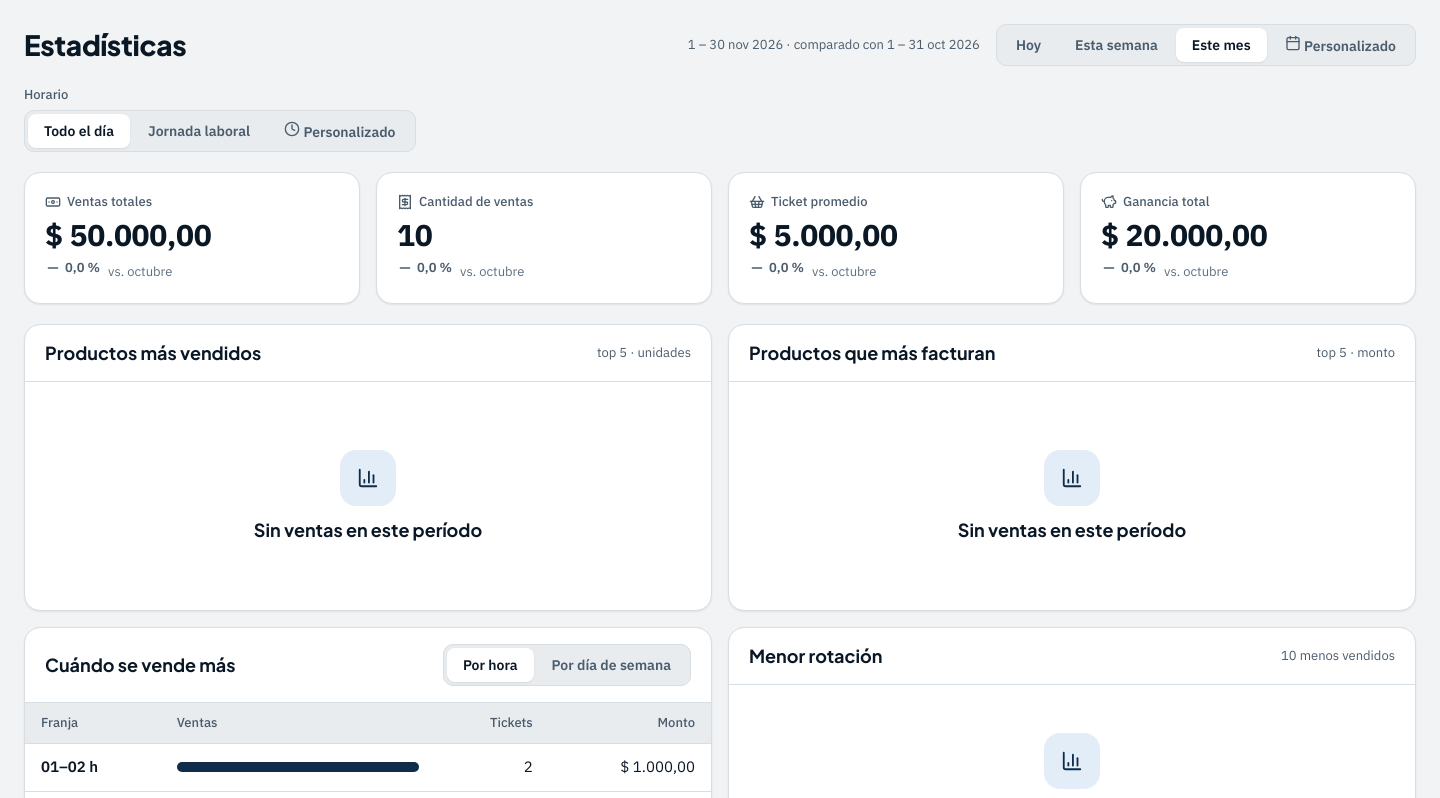
Scenario: Stats — filtro horario: día comercial en curso › 13. "Mes pasado" el 1/11 a la 01:00 con jornada
The width and height of the screenshot is (1440, 798).
Click the tab "Jornada laboral".
click(199, 131)  # box [132,114,266,148]
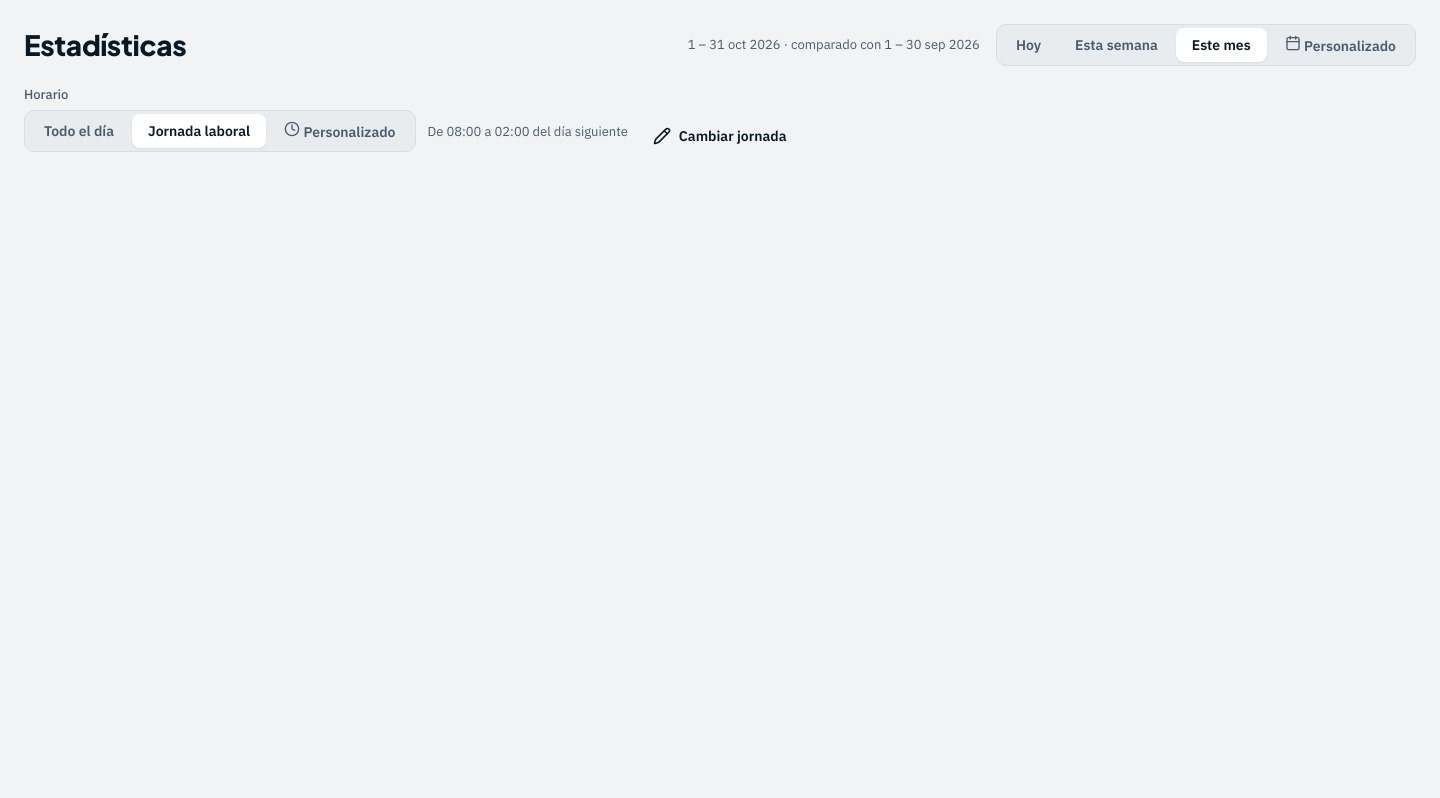
Click the tab "Personalizado" in the row of "1 – 30 sep 2026".
click(1340, 45)  # box [1269,28,1412,62]
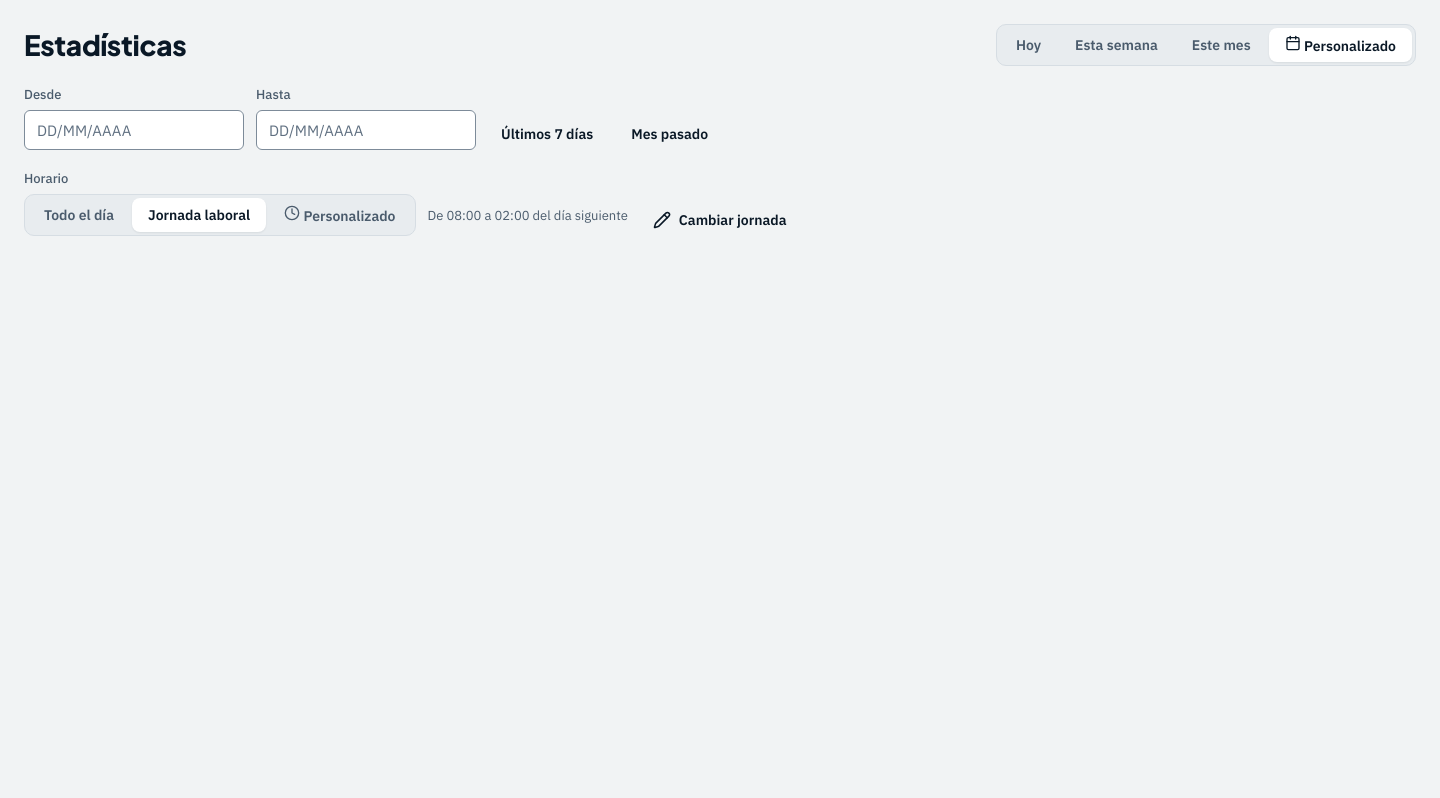
Click the button "Mes pasado".
click(670, 134)  # box [618,118,721,150]
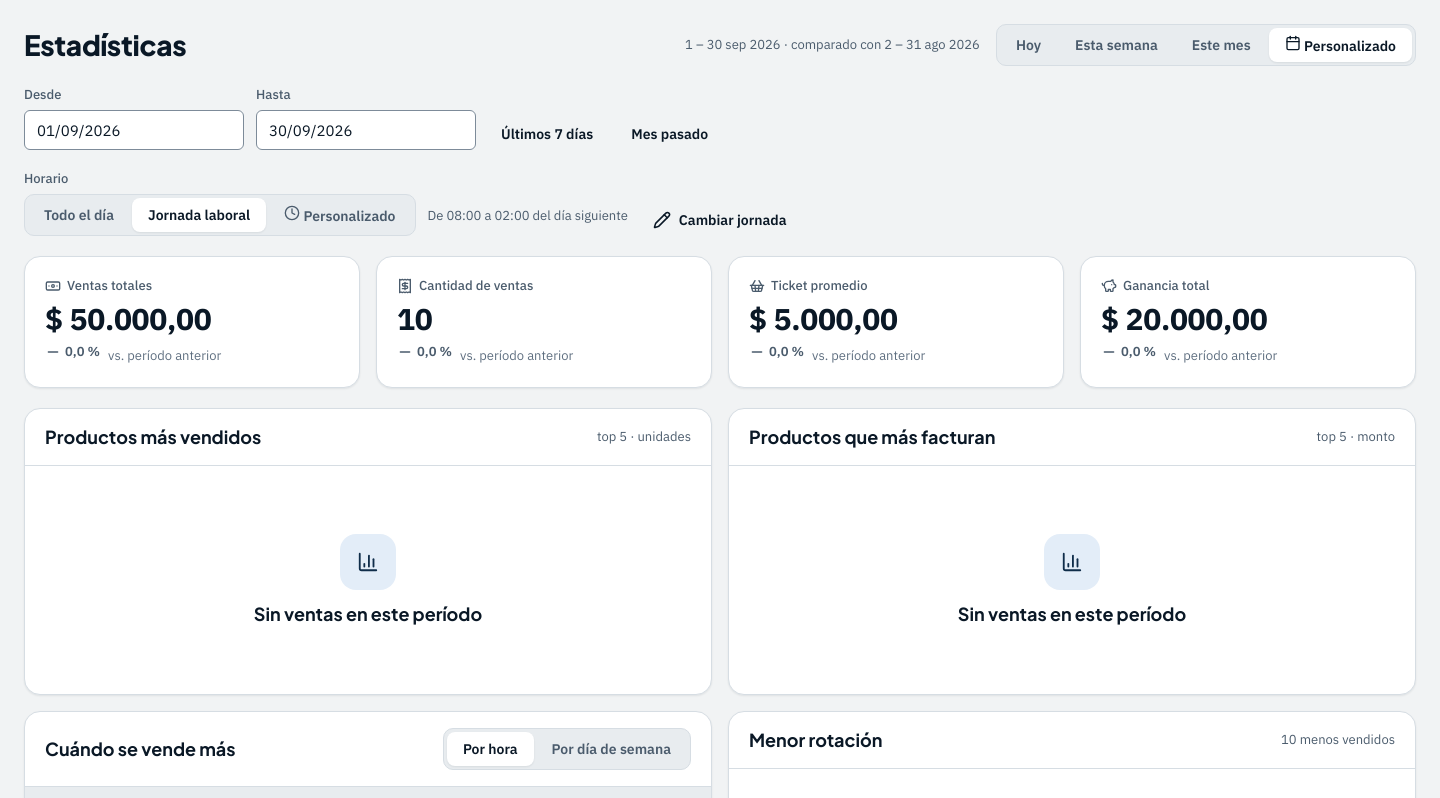
Now the field labelled "Desde" holds "01/09/2026", box [24,110,244,150]
Now the field labelled "Hasta" holds "30/09/2026", box [256,110,476,150]
